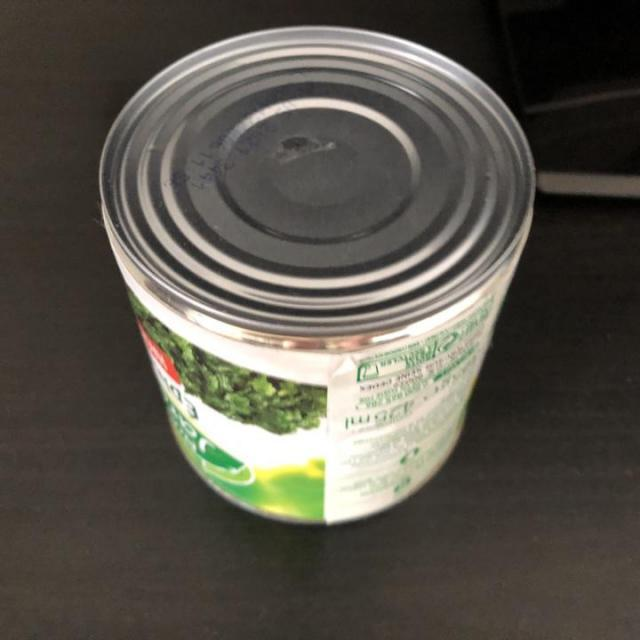metal-can: (95, 23, 540, 535)
